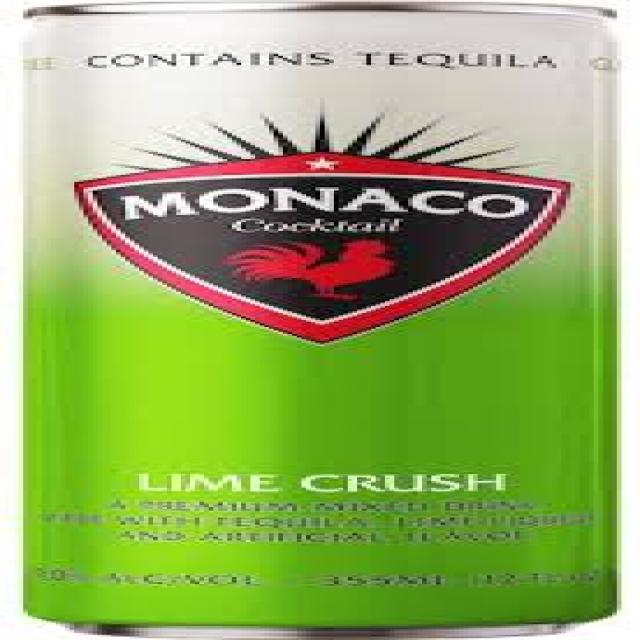Cans: (14, 1, 635, 636)
